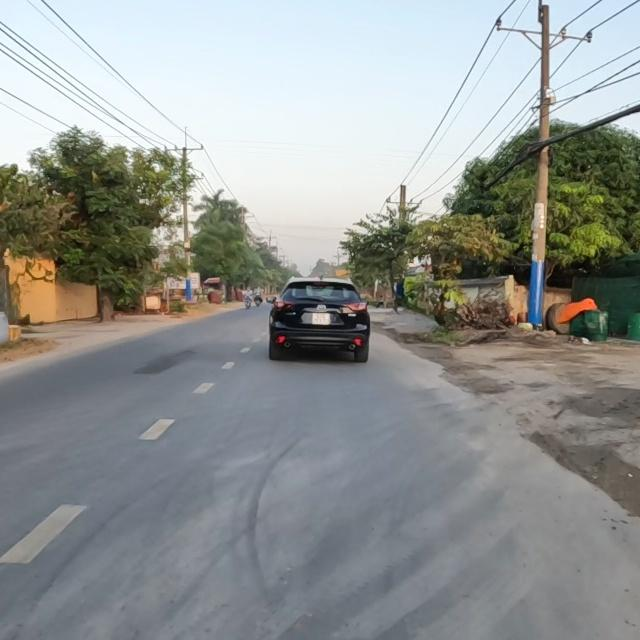license-plate: (310, 311, 332, 326)
